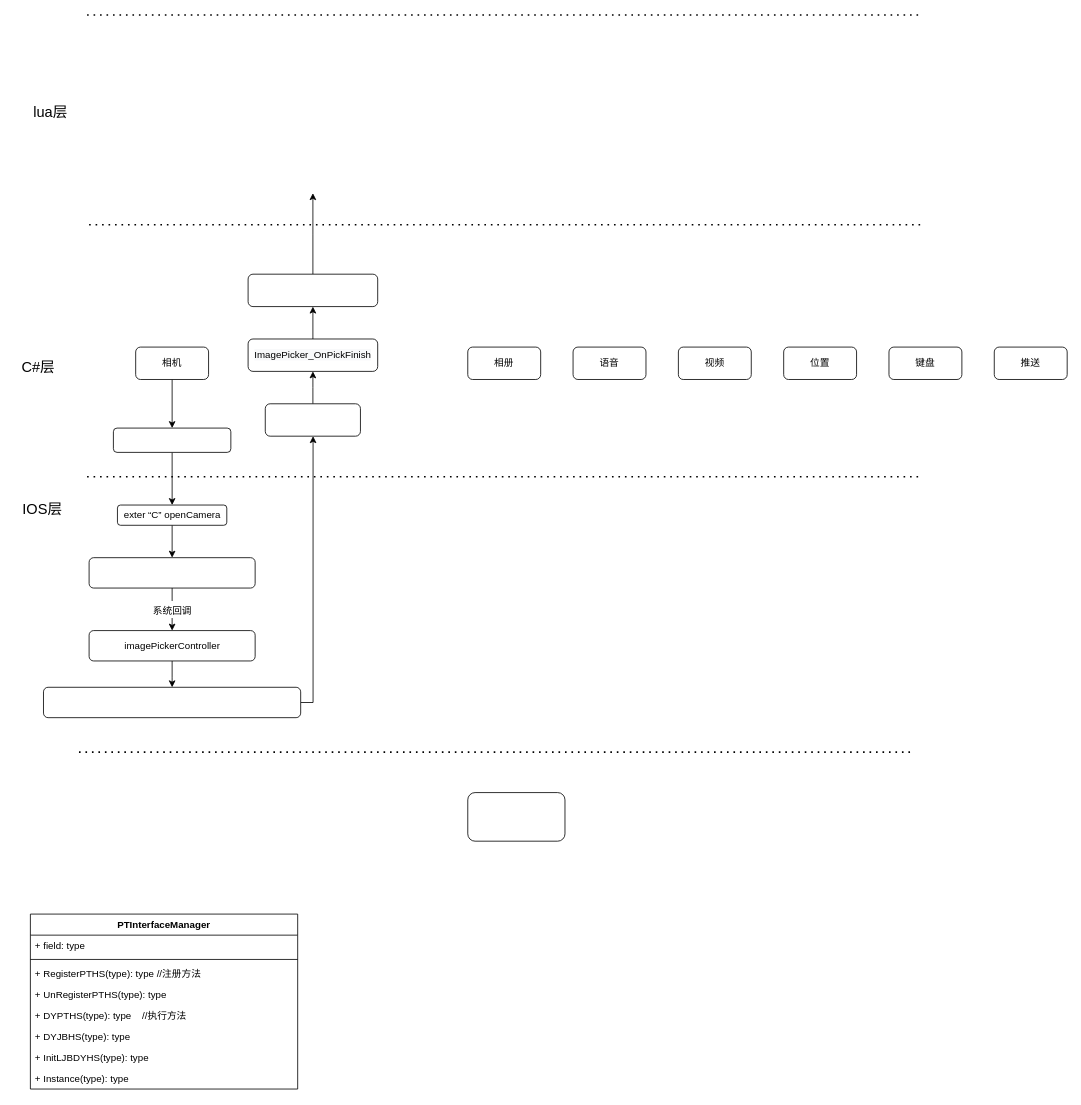
The diagram is 1081 pixels wide and 1105 high, and some of its shapes have lost their labels. Each missing label, with the centre of its shape:
DYPTHS: point 516,816
ImagePicker: point 312,290
ImageViewController.openCamera: point 171,572
IOSUtils.openCamera();: point 172,439
PlatformMsgHandler: point 312,419
UnitySendMessage("GameMain", "ImagePicker_OnPickFinish", tmp_file_name);: point 172,702
